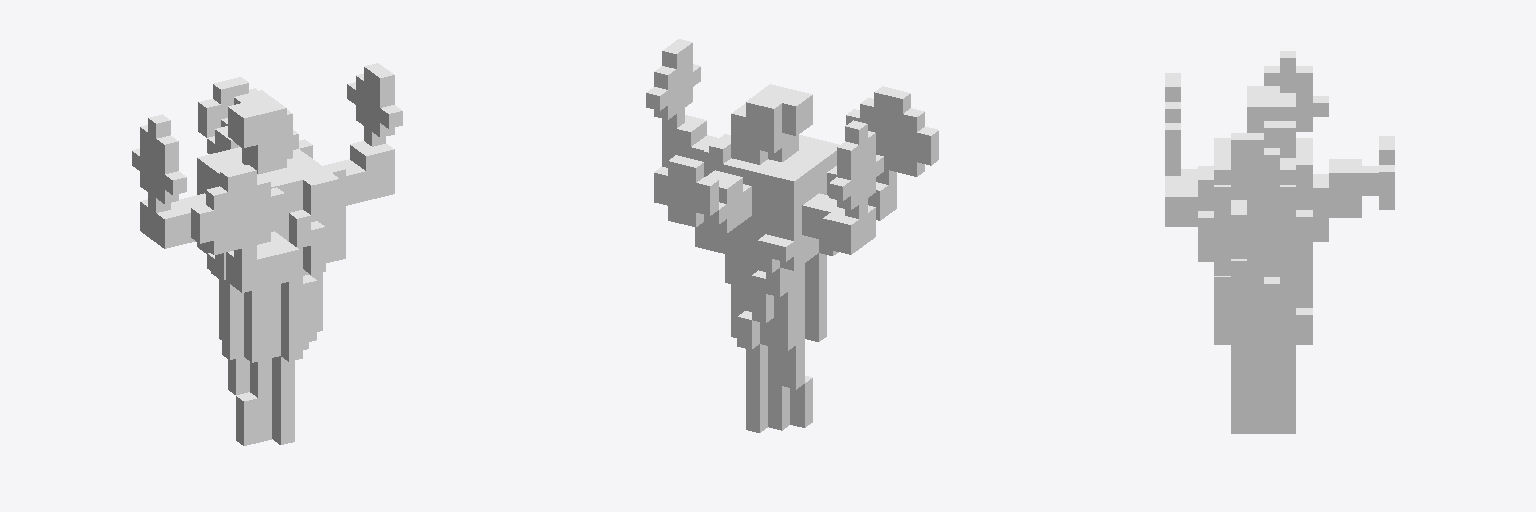
The model's file is MejoraGroot.obj.
3 renders of one model, left to right at view 1: azimuth 30°, elevation 25°; view 2: azimuth 150°, elevation 25°; view 3: azimuth 270°, elevation 25°, orthographic.
Parts seen in each view (by area): view 1: object 1; view 2: object 1; view 3: object 1.
Part boxes in pixels (left/top/right/bottom): object 1: left=132, top=63, right=402, bottom=445; object 1: left=646, top=39, right=938, bottom=432; object 1: left=1165, top=51, right=1394, bottom=433.
Size of the model in its own units: 1.6 by 2.3 by 1.4.